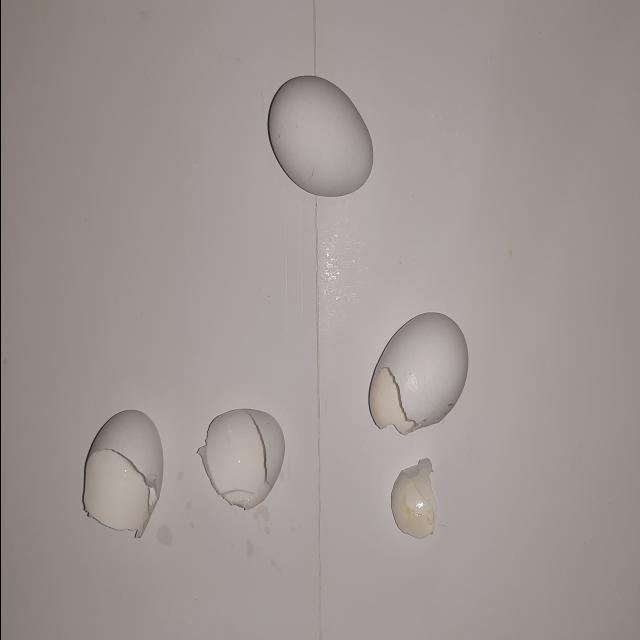egg shell: (249, 54, 384, 222), (350, 304, 480, 435), (68, 392, 172, 548), (191, 380, 293, 528), (387, 452, 443, 542)
